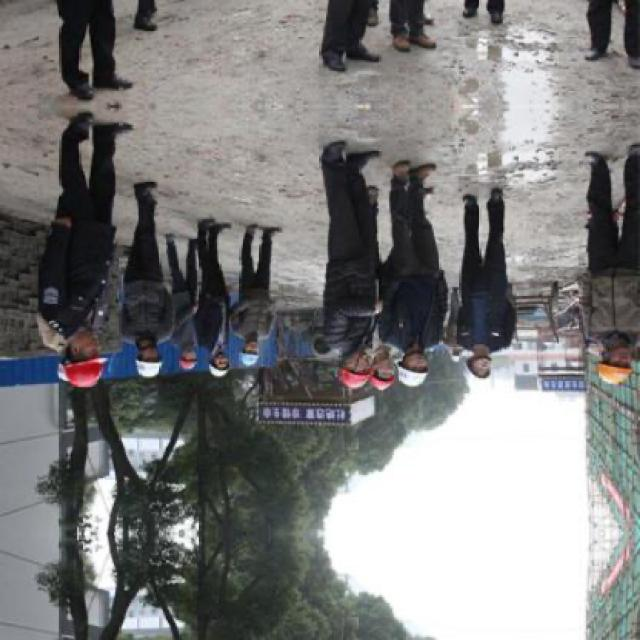con casco: (52, 332, 134, 398), (439, 334, 507, 404), (371, 332, 443, 396), (138, 343, 197, 400), (327, 327, 362, 408)
